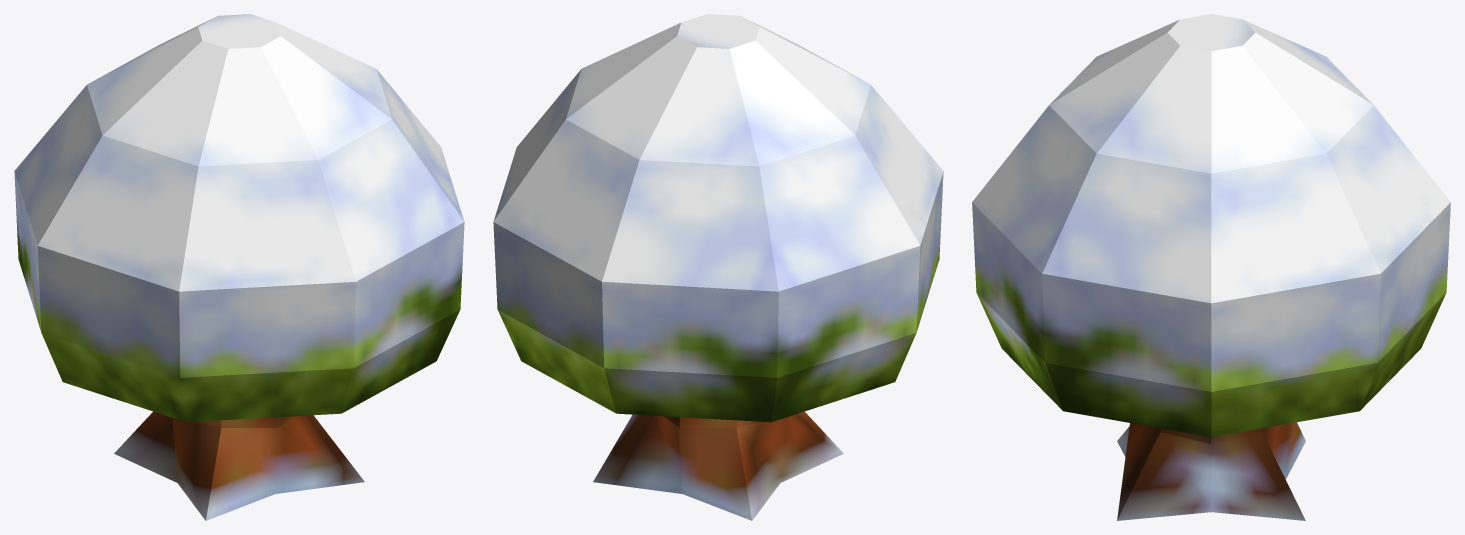
Rendered from Poly_World_Map_Big_Tree_Snow_01.obj.
3 renders of one model, left to right at view 1: azimuth 30°, elevation 25°; view 2: azimuth 150°, elevation 25°; view 3: azimuth 270°, elevation 25°, orthographic. The views are drawn at different scales.
Parts seen in each view (by area): view 1: Grid.001, Grid.002; view 2: Grid.001, Grid.002; view 3: Grid.001, Grid.002.
Part boxes in pixels (left/top/right/bottom): Grid.001: left=14, top=14, right=464, bottom=422; Grid.002: left=114, top=411, right=364, bottom=520; Grid.001: left=493, top=14, right=943, bottom=422; Grid.002: left=593, top=411, right=843, bottom=520; Grid.001: left=972, top=14, right=1450, bottom=437; Grid.002: left=1117, top=422, right=1305, bottom=520.
Bounding box in the file's own units: 0.8084 × 0.8354 × 0.8084.
1 material, 1 textured.
